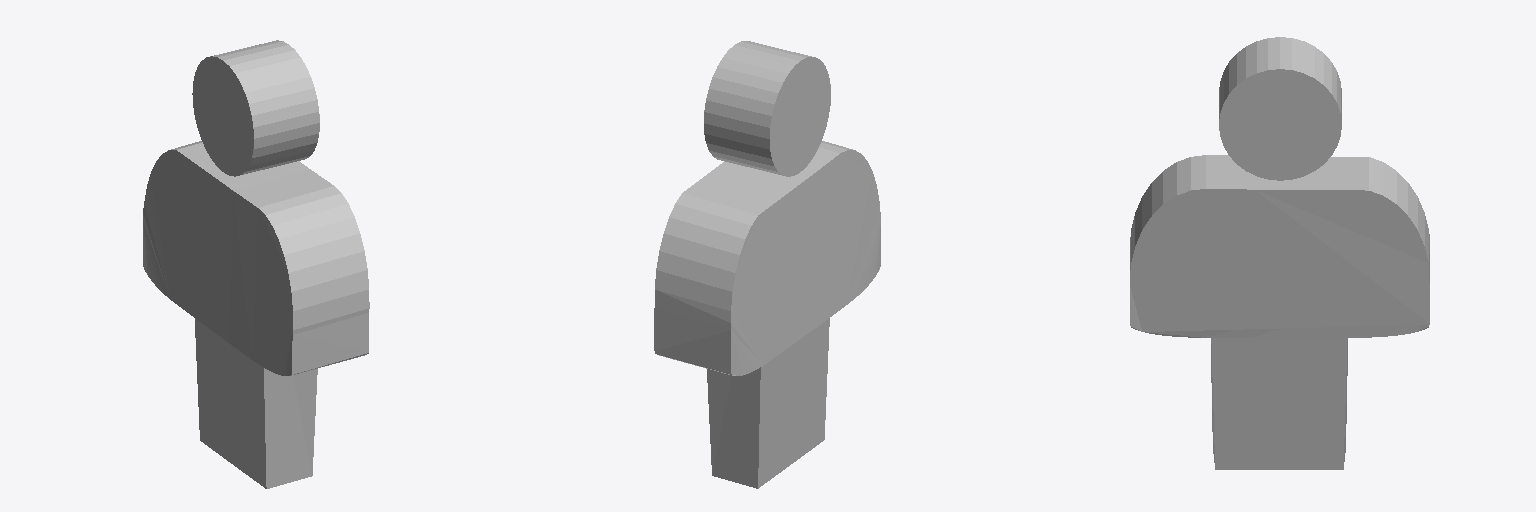
The model's file is person2.obj.
The picture shows the model from 3 angles: view 1: azimuth 30°, elevation 25°; view 2: azimuth 150°, elevation 25°; view 3: azimuth 270°, elevation 25°; orthographic projection.
Parts seen in each view (by area): view 1: Cylinder_Cylinder.001; view 2: Cylinder_Cylinder.001; view 3: Cylinder_Cylinder.001.
Boxes of the visible parts, <box> form: Cylinder_Cylinder.001: <box>143,40,369,488</box>; Cylinder_Cylinder.001: <box>654,41,880,488</box>; Cylinder_Cylinder.001: <box>1130,37,1429,469</box>.
Size of the model in its own units: 154 by 728 by 488.